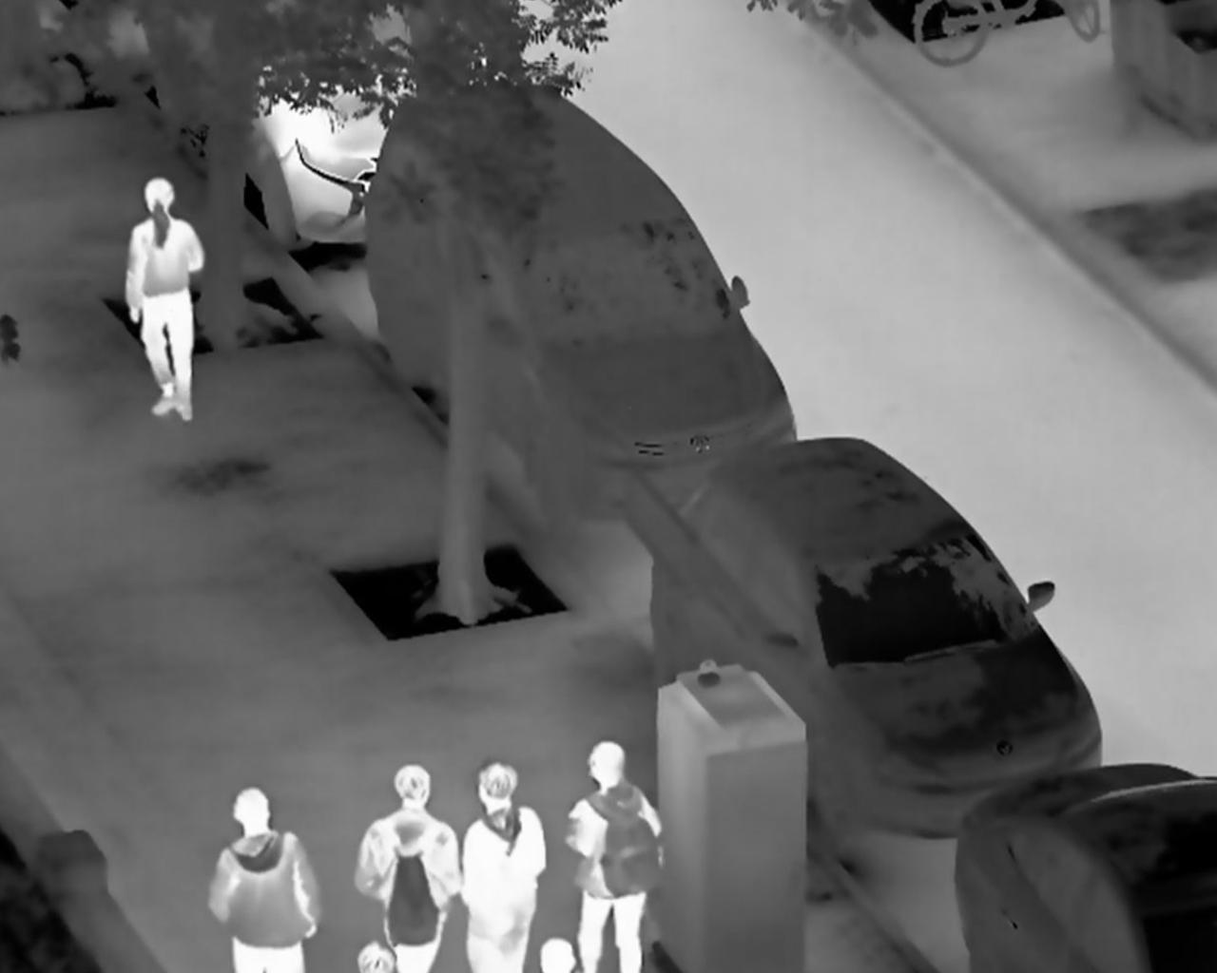person: (566, 738, 666, 973), (354, 762, 462, 973), (204, 785, 324, 973), (124, 175, 204, 426), (455, 761, 547, 973)
